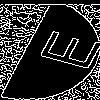E: (25, 25, 100, 72)
